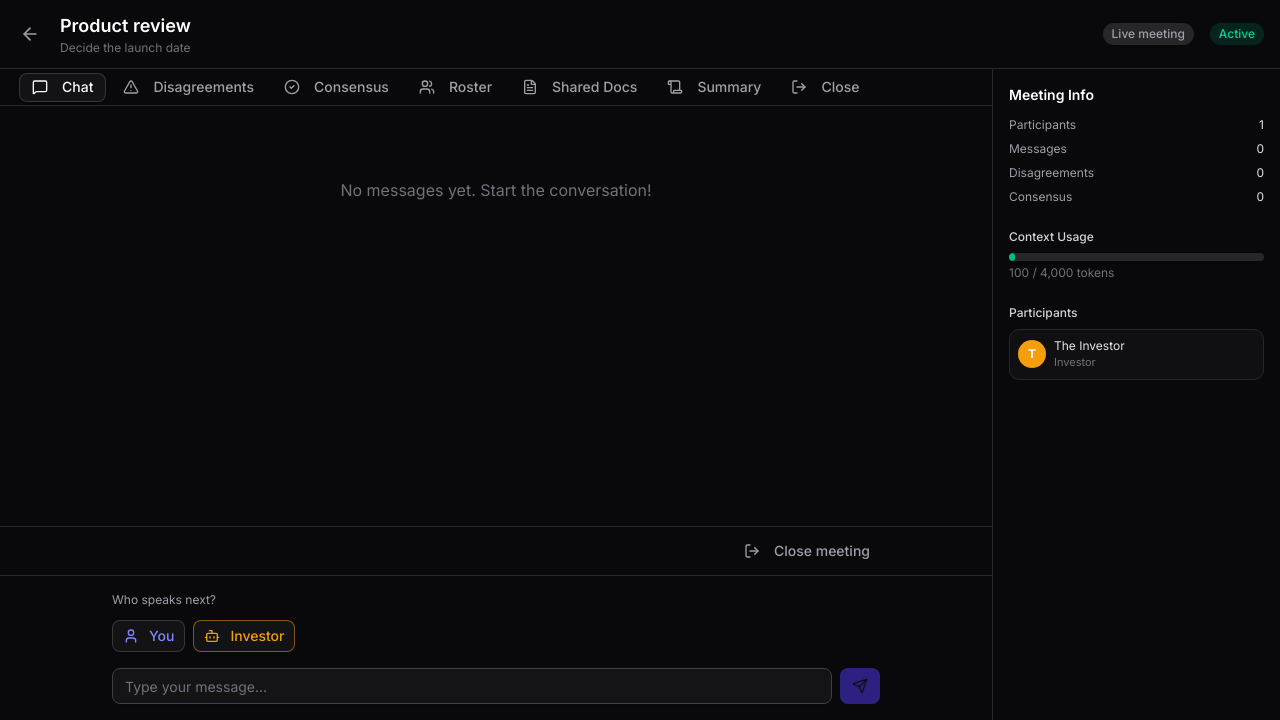
Test case: MeetingRoom › sends a user message through the canonical mutation and appends it
Type "Ship on Friday" into the field with placeholder "Type your message..." at (472,686), box [112, 668, 832, 704]
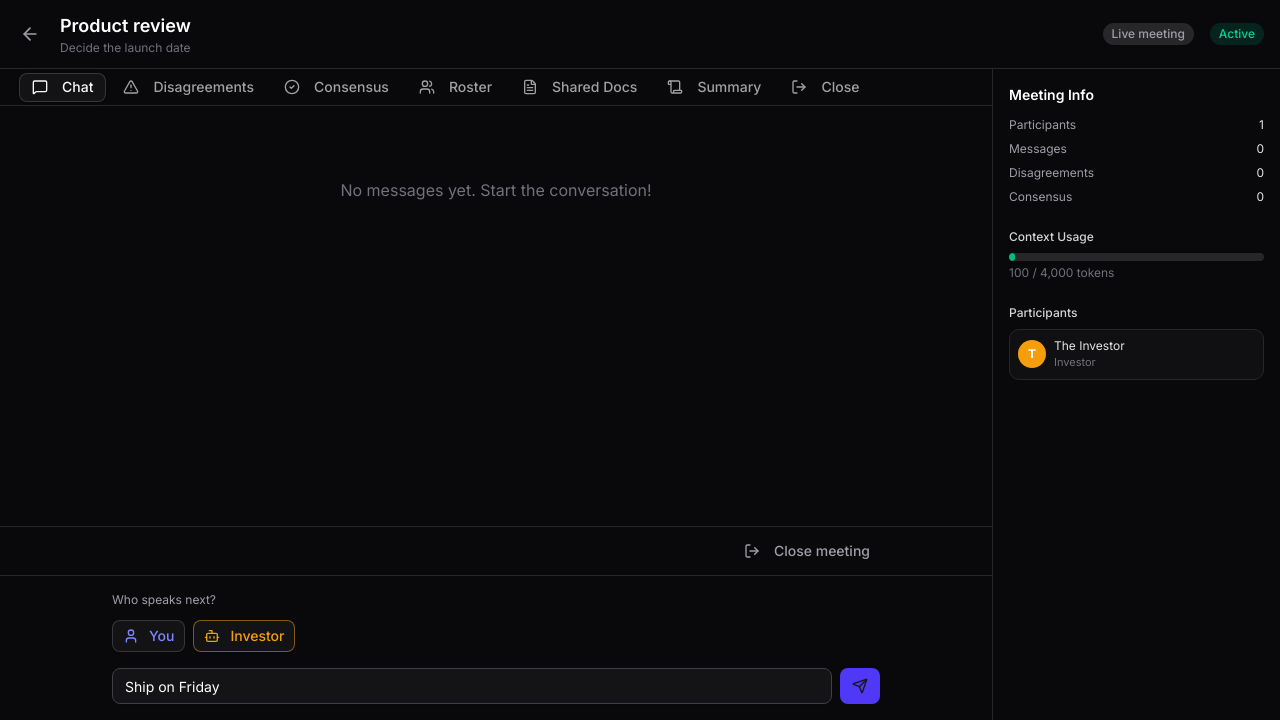
Click the button named "Send message" at (860,686), box [840, 668, 880, 704]
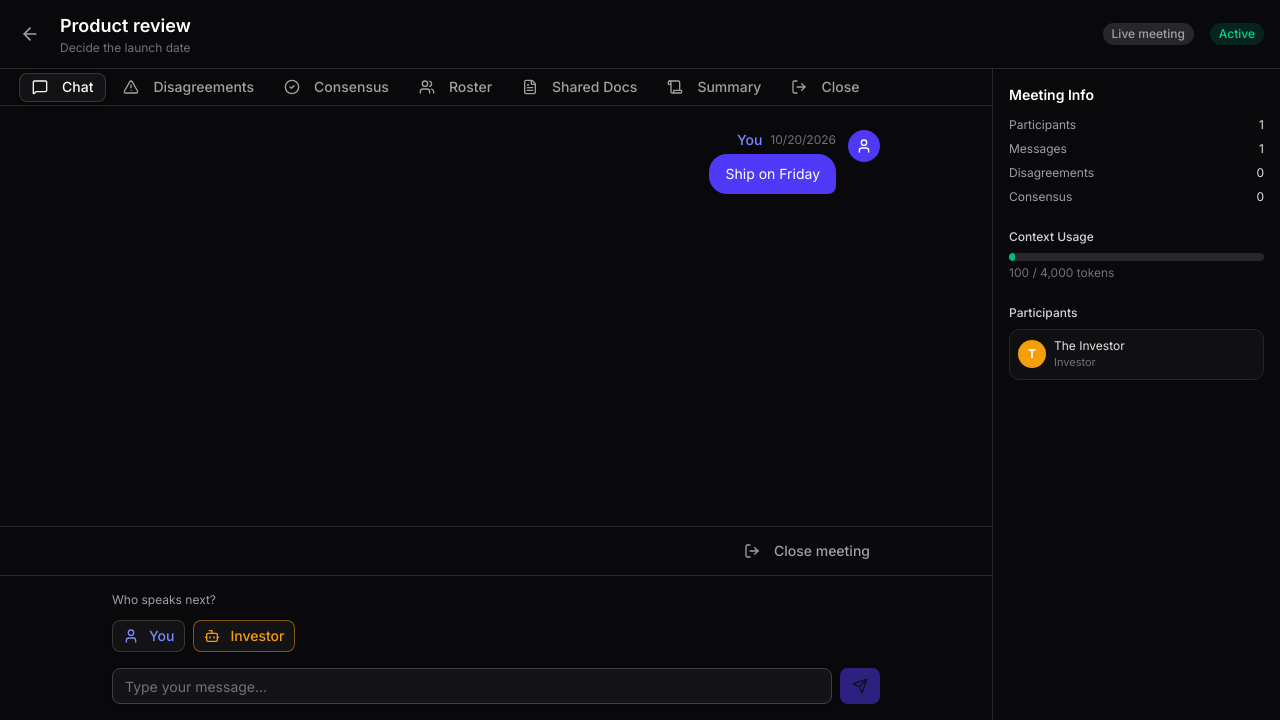
Check: the text "Ship on Friday" is shown, box [726, 164, 820, 184]
Check: the field with placeholder "Type your message..." is empty, box [112, 668, 832, 704]
